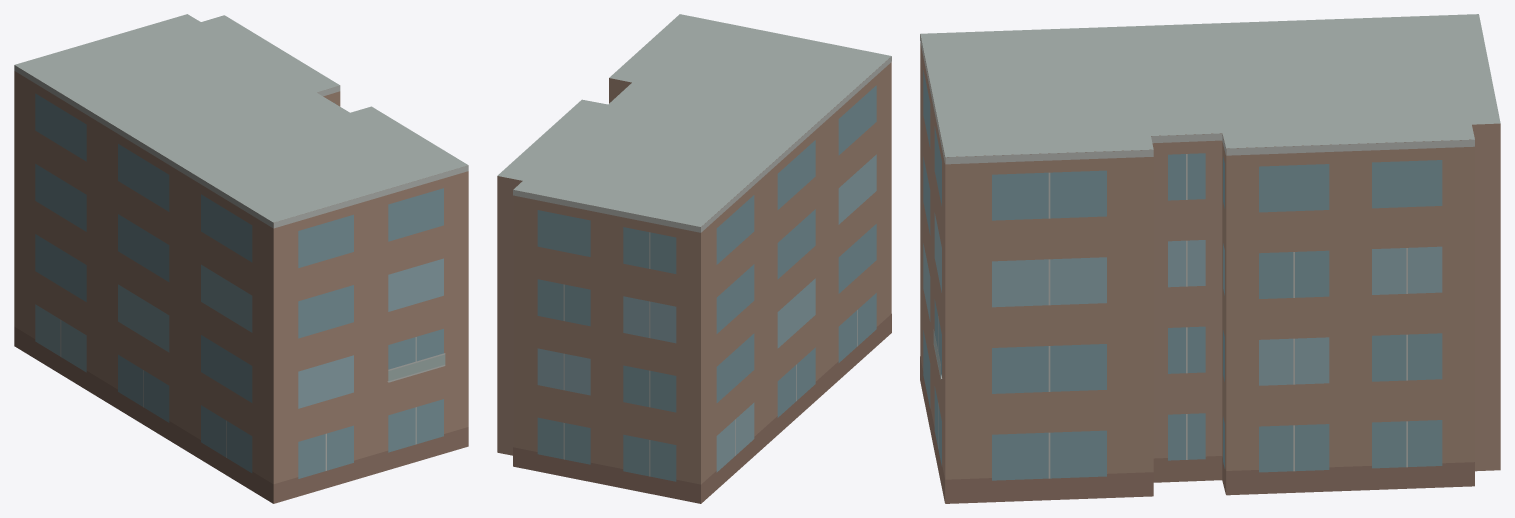
Rendered from survey-upis-33025434.glb.
3 views of the same model, side by side, from view 1: azimuth 30°, elevation 25°; view 2: azimuth 150°, elevation 25°; view 3: azimuth 270°, elevation 25° (orthographic). The views are drawn at different scales.
Visible parts, largest first — view 1: survey-upis-33025434.tmp; view 2: survey-upis-33025434.tmp; view 3: survey-upis-33025434.tmp.
Part boxes in pixels (x1,y1,x2,y2): survey-upis-33025434.tmp: (14, 14, 468, 503); survey-upis-33025434.tmp: (497, 14, 891, 503); survey-upis-33025434.tmp: (920, 14, 1500, 503).
Bounding box in the file's own units: 10.43 × 11.77 × 17.87.
